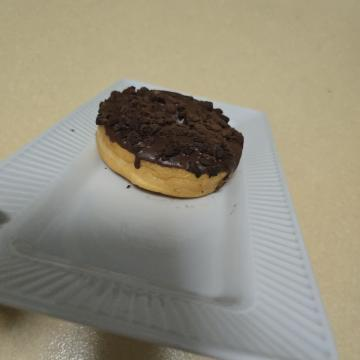doughnut: (66, 99, 221, 288)
